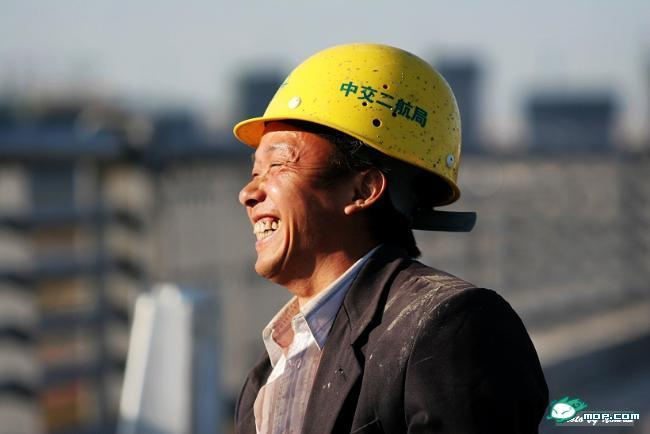helmet: (234, 45, 469, 193)
